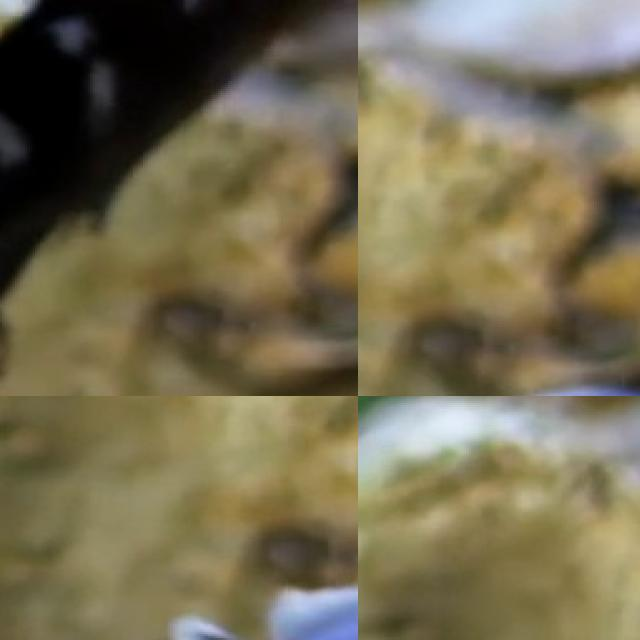fish: (0, 0, 358, 396)
